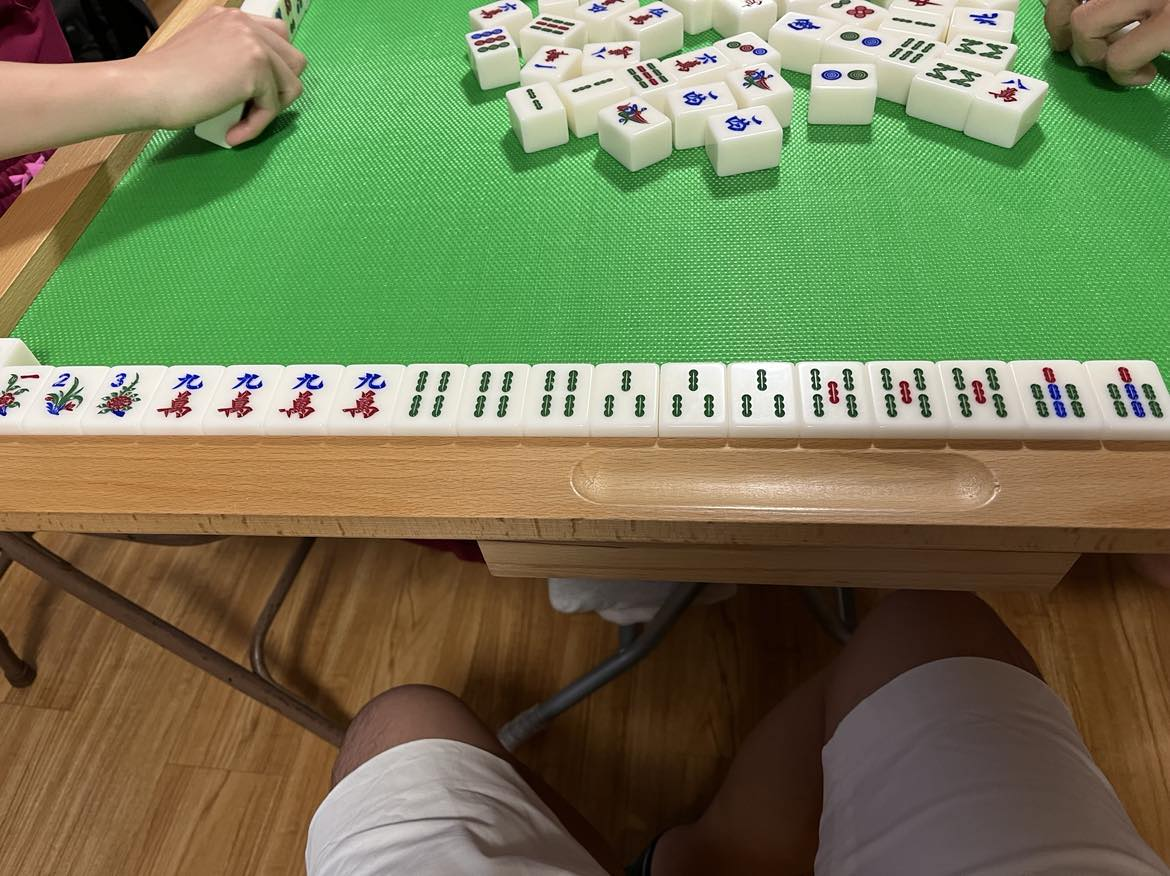bamboo-five: (947, 361, 1011, 424), (805, 361, 863, 425), (877, 365, 935, 424)
bamboo-four: (532, 365, 581, 424), (406, 366, 453, 425), (471, 366, 518, 422)
bamboo-seven: (1023, 360, 1090, 423), (1104, 364, 1165, 426)
bamboo-three: (733, 366, 792, 427), (666, 362, 720, 428), (597, 368, 654, 424)
character-nine: (341, 369, 394, 426), (278, 369, 325, 431), (159, 366, 209, 424), (219, 366, 264, 429)
flower-blue_three: (98, 367, 146, 427)
flower-blue_two: (43, 368, 86, 429)
